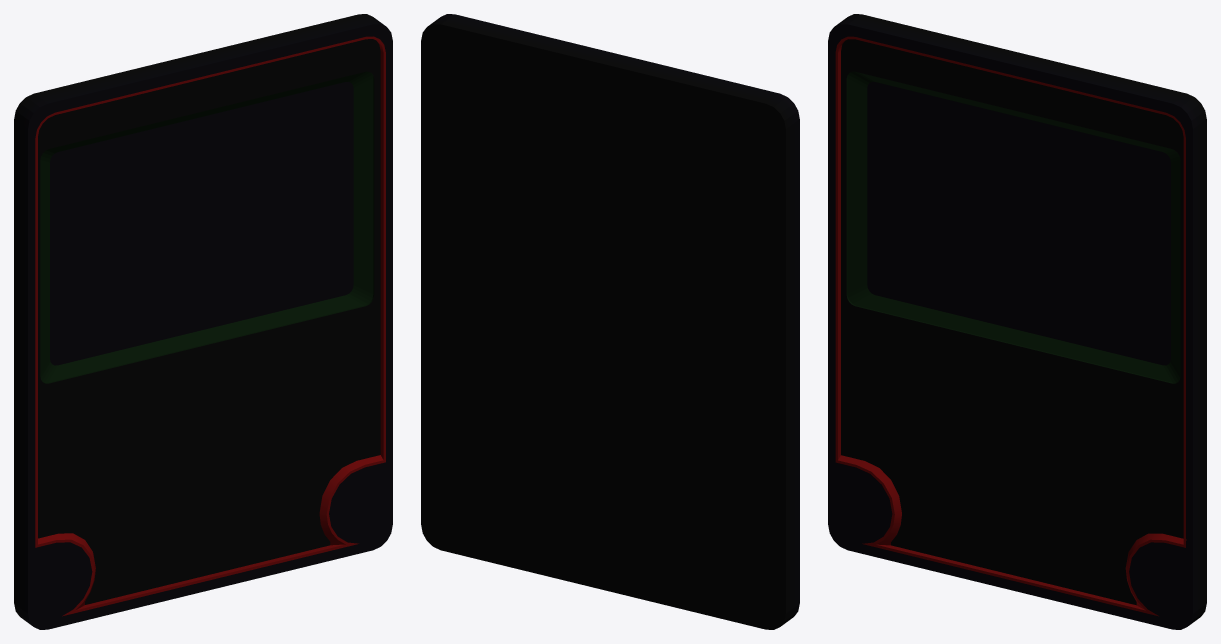
File: characterCard.fbx
The picture shows the model from 3 angles, left to right: view 1: azimuth 30°, elevation 25°; view 2: azimuth 150°, elevation 25°; view 3: azimuth 330°, elevation 25°; orthographic projection.
Visible parts, largest first — view 1: card; view 2: card; view 3: card.
Boxes of the visible parts, box(x1,y1,x2,y2) form: card: box(14, 14, 392, 629); card: box(421, 14, 799, 629); card: box(828, 14, 1206, 629).
Bounding box in the file's own units: 7.26 × 10 × 0.4781.
